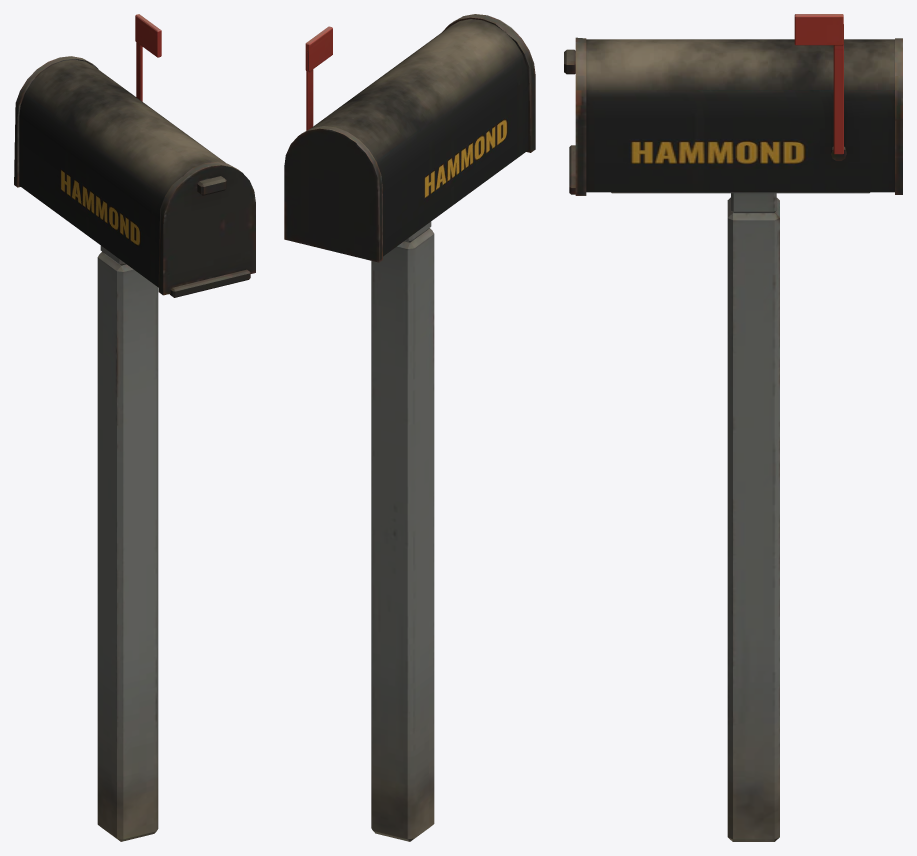
Rendered from mailbox_hammond-low.glb.
3 renders of one model, left to right at view 1: azimuth 30°, elevation 25°; view 2: azimuth 150°, elevation 25°; view 3: azimuth 270°, elevation 25°, orthographic. The views are drawn at different scales.
Parts seen in each view (by area): view 1: mailbox_hammond, mailbox_flag; view 2: mailbox_hammond, mailbox_flag; view 3: mailbox_hammond, mailbox_flag.
Part boxes in pixels (x1,y1,x2,y2): mailbox_hammond: (14,56,255,841); mailbox_flag: (135,14,161,101); mailbox_hammond: (284,14,535,841); mailbox_flag: (305,26,332,130); mailbox_hammond: (564,37,902,841); mailbox_flag: (794,14,843,154).
Size of the model in its own units: 0.1907 by 1.43 by 0.518.
Materials: 2 (2 with a texture image).
